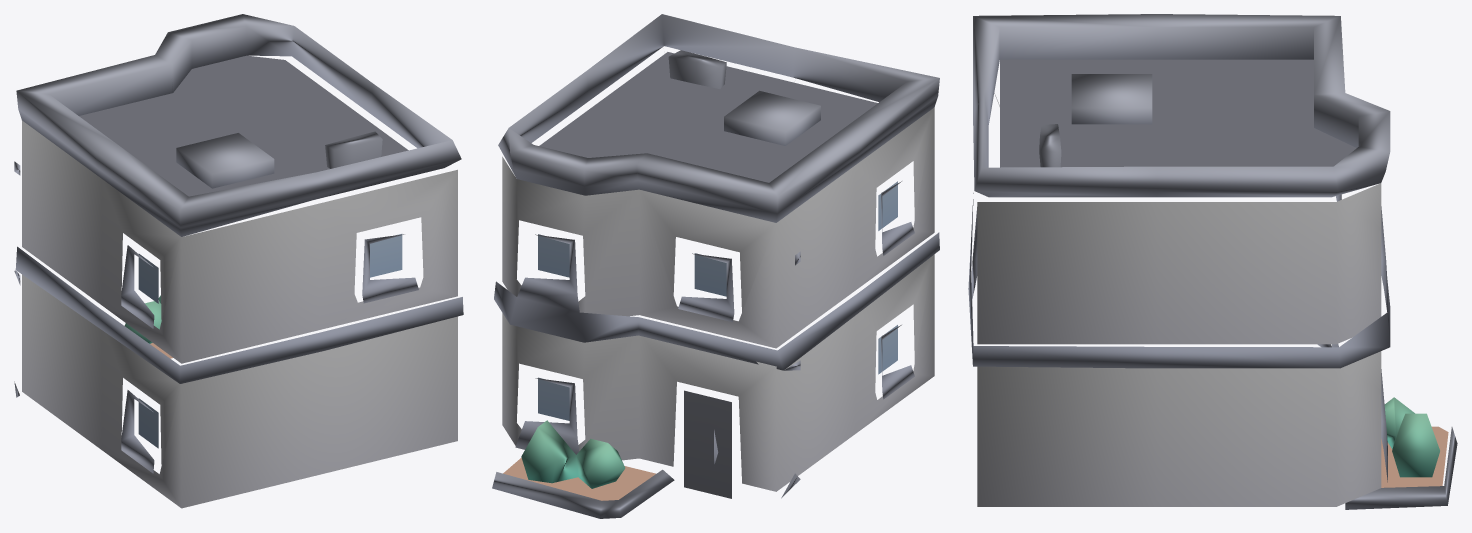
3 views of the same model, side by side, from view 1: azimuth 30°, elevation 25°; view 2: azimuth 150°, elevation 25°; view 3: azimuth 270°, elevation 25° (orthographic). The views are drawn at different scales.
Size of the model in its own units: 6.86 by 7.04 by 8.72.
